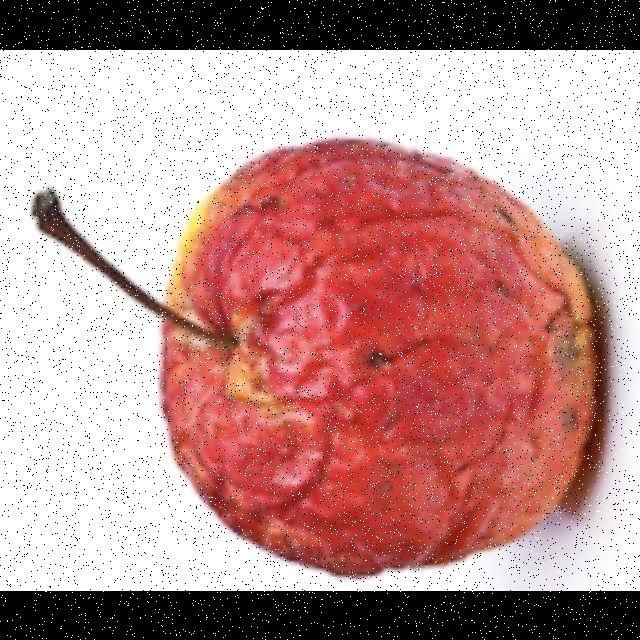Apel Tidak Segar: (90, 91, 640, 591)
